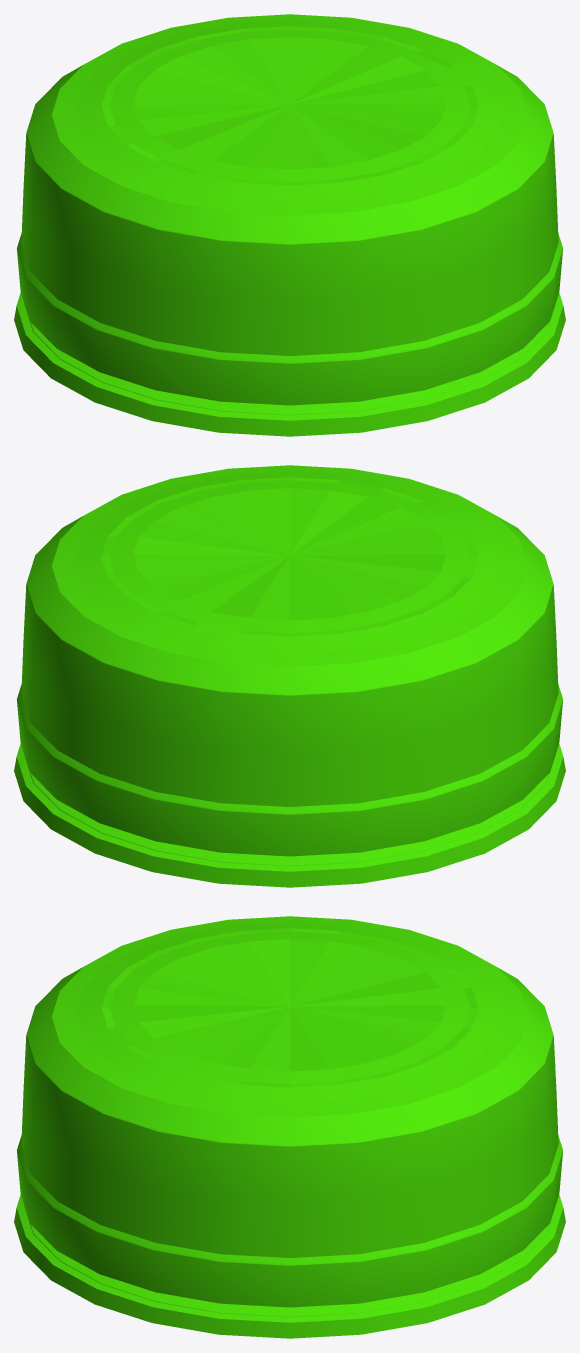
File: bottle.glb
3 renders of one model, top to bottom at view 1: azimuth 30°, elevation 25°; view 2: azimuth 150°, elevation 25°; view 3: azimuth 270°, elevation 25°, orthographic.
Visible parts, largest first — view 1: Lathe.1; view 2: Lathe.1; view 3: Lathe.1.
Part boxes in pixels (<box>): Lathe.1: <box>14,14,565,436</box>; Lathe.1: <box>14,465,565,887</box>; Lathe.1: <box>14,916,565,1338</box>.
Size of what is drawn, in the model's own units: 156 by 70.89 by 156.
